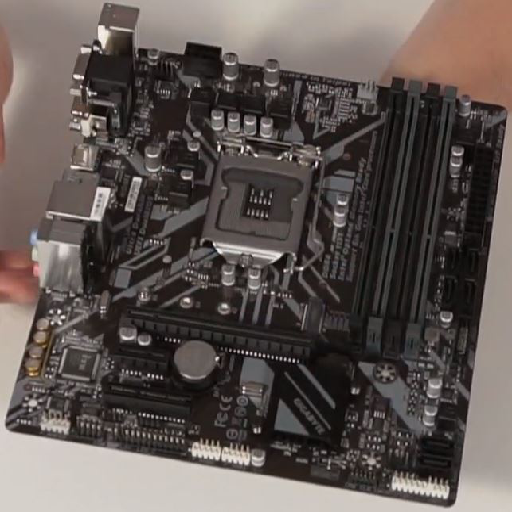CPU: (201, 148, 316, 271)
GPU: (119, 301, 328, 368)
MOTHERBOARD: (2, 19, 509, 509)
RAM: (351, 74, 458, 355)
SSD: (299, 294, 331, 335)
